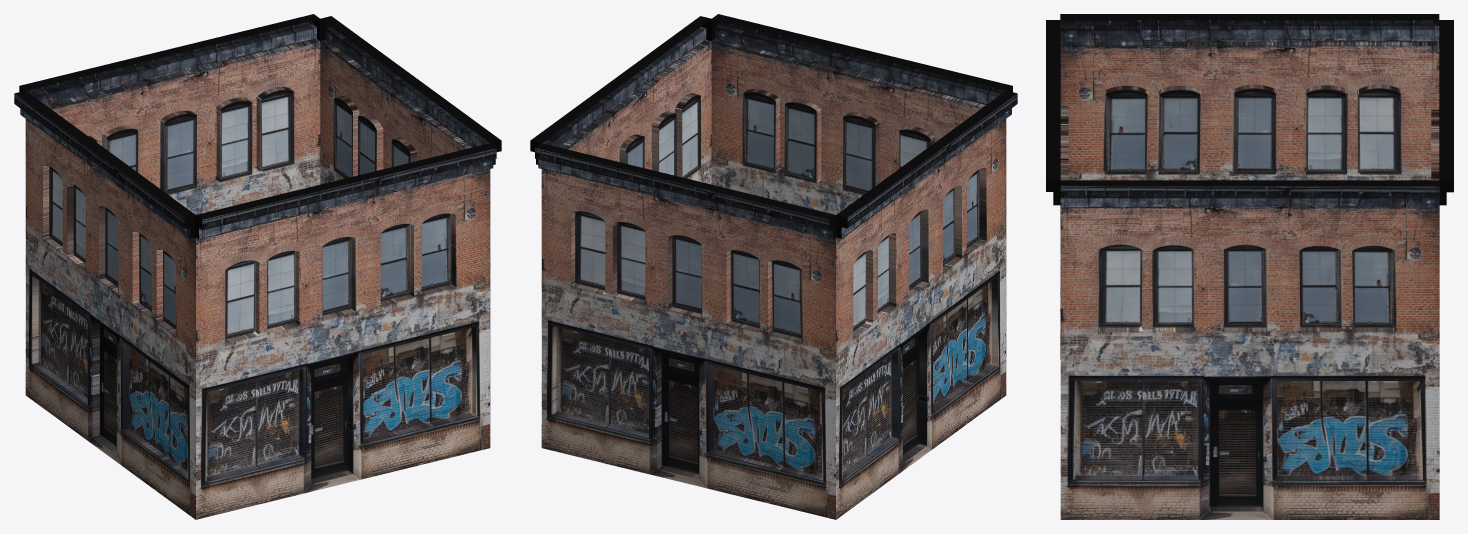
Rendered from Building_2.glb.
3 views of the same model, side by side, from view 1: azimuth 30°, elevation 25°; view 2: azimuth 150°, elevation 25°; view 3: azimuth 270°, elevation 25° (orthographic). The views are drawn at different scales.
Parts seen in each view (by area): view 1: Building 2.001, Building 2.002, Building 2.003, Building 2; view 2: Building 2.003, Building 2.002, Building 2.001, Building 2; view 3: Building 2, Building 2.002, Building 2.001, Building 2.003.
Boxes of the visible parts, x1,y1,x2,y2 form: Building 2.001: (195,143,496,519); Building 2.002: (14,90,195,519); Building 2.003: (19,14,320,395); Building 2: (320,16,501,447); Building 2.003: (535,143,836,519); Building 2.002: (836,90,1017,519); Building 2.001: (711,14,1012,395); Building 2: (530,16,711,447); Building 2: (1060,180,1439,519); Building 2.002: (1060,14,1439,359); Building 2.001: (1046,20,1068,205); Building 2.003: (1431,20,1453,205).
Bounding box in the file's own units: 7.21 × 6.62 × 7.21.
2 materials, 2 textured.
